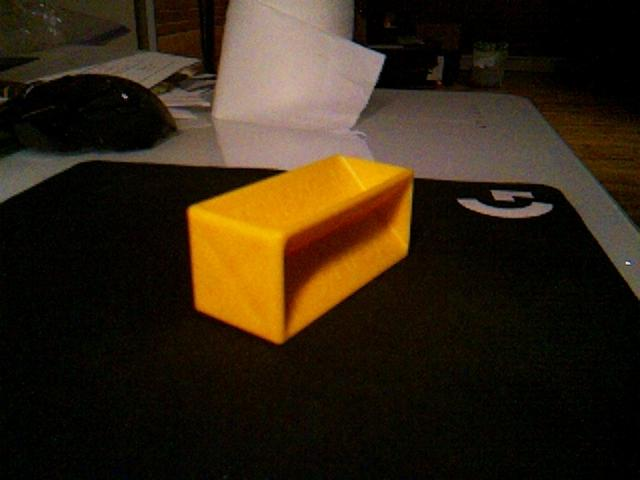yellow: (185, 153, 415, 346)
